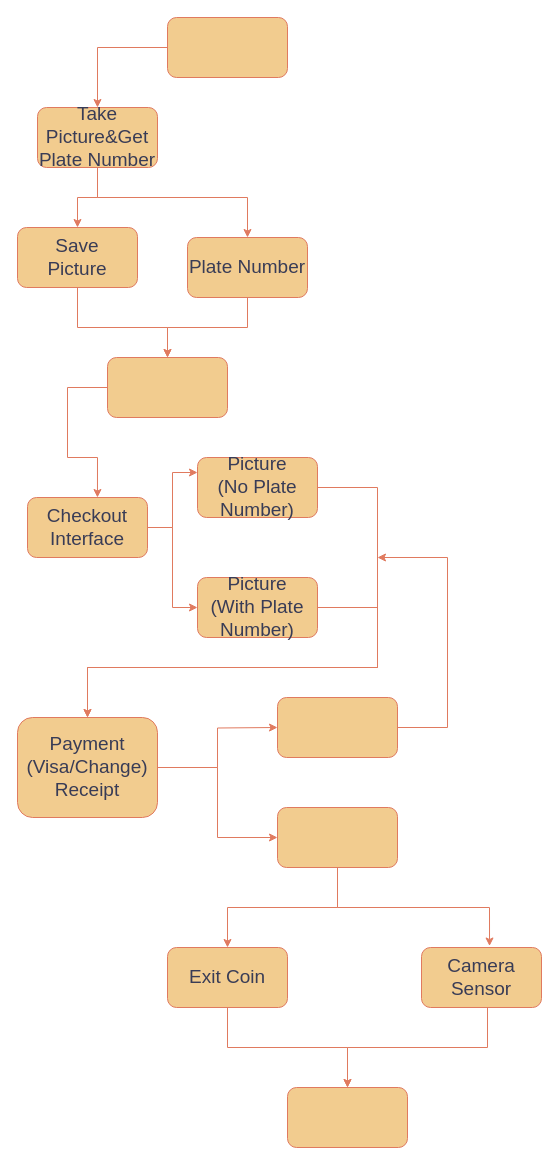
Some shapes in this 559 by 1165 pixel diagram are drawn without their labels. Here are the shapes that lost their labels. From the top down, the centre of each, then its label:
(227,47): Detect License Plate
(167,387): MongoDB
(337,727): Over 15 mins
(337,837): Before 15mins
(347,1117): Exit Entrance
